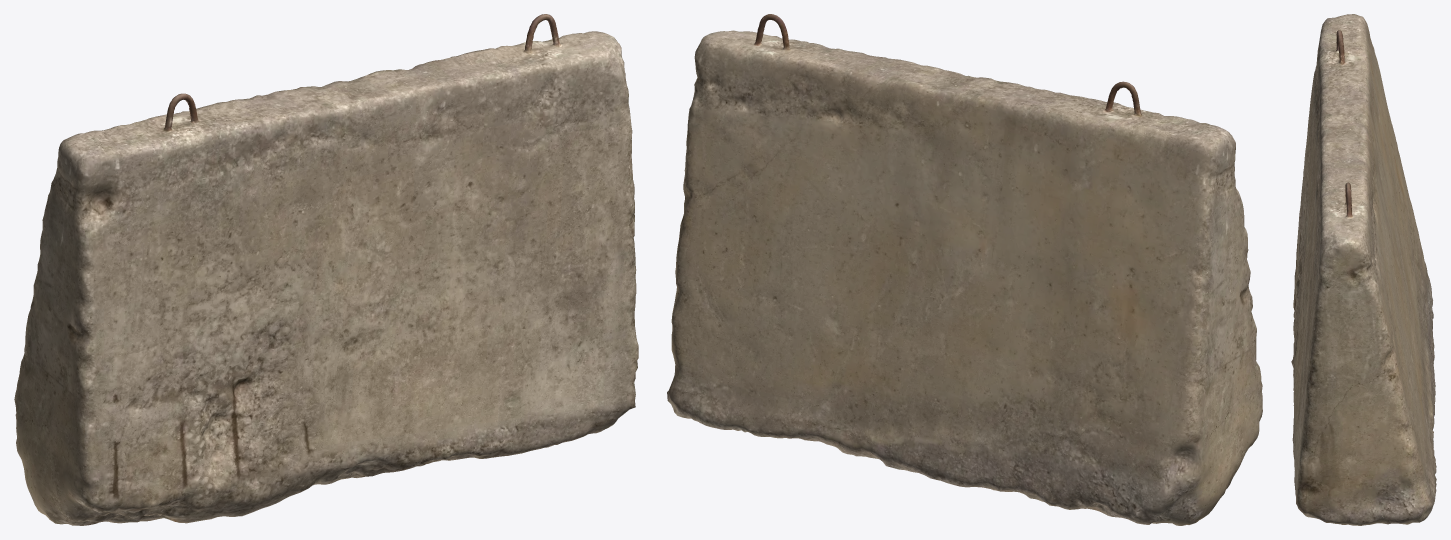
File: concrete_road_barrier_02.glb
The picture shows the model from 3 angles, left to right: view 1: azimuth 30°, elevation 25°; view 2: azimuth 150°, elevation 25°; view 3: azimuth 270°, elevation 25°; orthographic projection. The views are drawn at different scales.
Parts seen in each view (by area): view 1: concrete_road_barrier_02; view 2: concrete_road_barrier_02; view 3: concrete_road_barrier_02.
Part boxes in pixels (x1,y1,x2,y2): concrete_road_barrier_02: [14, 14, 638, 525]; concrete_road_barrier_02: [667, 14, 1262, 525]; concrete_road_barrier_02: [1291, 14, 1436, 525].
Bounding box in the file's own units: 1.57 × 1.11 × 0.4421.
1 material, 1 textured.
